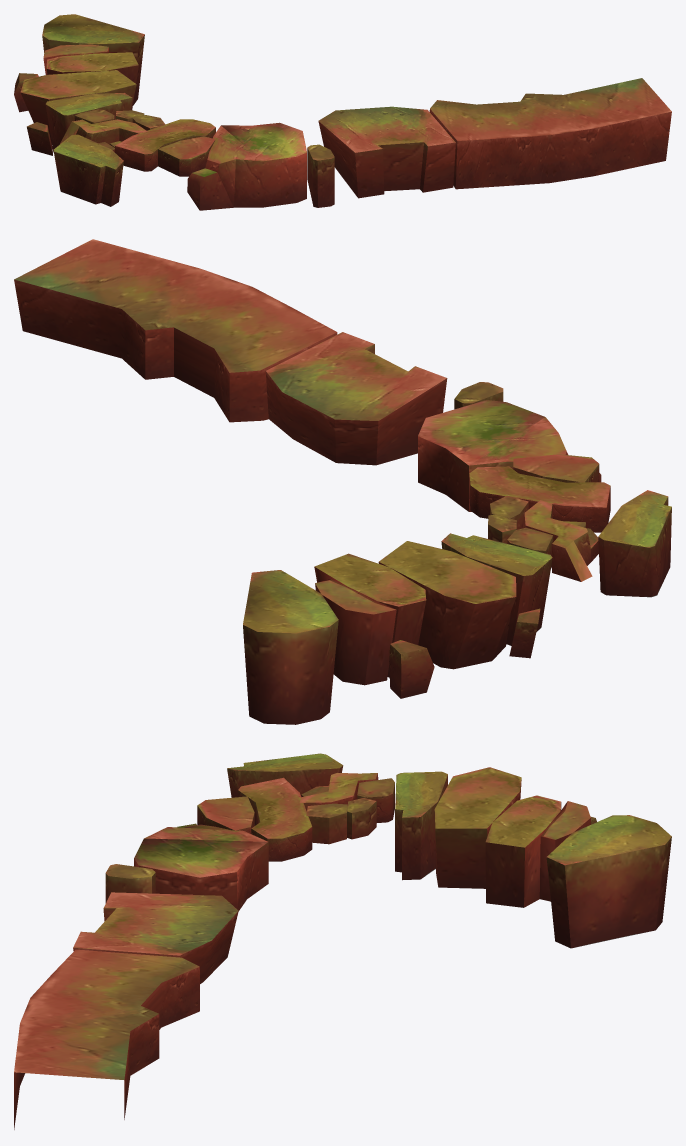
File: shui_lu.FBX
3 views of the same model, one above another, from view 1: azimuth 30°, elevation 25°; view 2: azimuth 150°, elevation 25°; view 3: azimuth 270°, elevation 25° (orthographic). The views are drawn at different scales.
Visible parts, largest first — view 1: Object01, Object12, Object10, Object02, Object03, Object07, Object04, Object06, lianhuatai1, Object08, Object11, Object09 (+1 smaller); view 2: Object01, Object12, Object04, Object07, Object06, Object10, Object02, Object03, lianhuatai1, Object08, Object05, Object09 (+1 smaller); view 3: Object01, Object04, Object12, Object10, Object06, Object07, Object02, lianhuatai1, Object08, Object03, Object11.
Boxes of the visible parts, x1=… form: Object01: x1=429, y1=78, x2=671, y2=189; Object12: x1=318, y1=106, x2=455, y2=198; Object10: x1=187, y1=122, x2=306, y2=210; Object02: x1=115, y1=119, x2=215, y2=176; Object03: x1=53, y1=134, x2=123, y2=206; Object07: x1=20, y1=70, x2=136, y2=143; Object04: x1=42, y1=14, x2=144, y2=105; Object06: x1=43, y1=44, x2=138, y2=110; lianhuatai1: x1=60, y1=109, x2=165, y2=152; Object08: x1=45, y1=93, x2=132, y2=152; Object11: x1=307, y1=144, x2=334, y2=207; Object09: x1=27, y1=122, x2=52, y2=155; Object01: x1=14, y1=239, x2=337, y2=422; Object12: x1=265, y1=332, x2=447, y2=465; Object04: x1=243, y1=570, x2=338, y2=724; Object07: x1=378, y1=541, x2=516, y2=669; Object06: x1=314, y1=553, x2=426, y2=685; Object10: x1=418, y1=400, x2=601, y2=511; Object02: x1=469, y1=454, x2=610, y2=532; Object03: x1=598, y1=490, x2=671, y2=597; lianhuatai1: x1=488, y1=495, x2=598, y2=581; Object08: x1=441, y1=533, x2=552, y2=645; Object05: x1=389, y1=640, x2=434, y2=698; Object09: x1=509, y1=608, x2=540, y2=658; Object01: x1=14, y1=949, x2=199, y2=1129; Object04: x1=546, y1=815, x2=671, y2=948; Object12: x1=73, y1=892, x2=238, y2=983; Object10: x1=134, y1=823, x2=268, y2=910; Object06: x1=485, y1=795, x2=590, y2=907; Object07: x1=434, y1=767, x2=521, y2=888; Object02: x1=197, y1=777, x2=312, y2=861; lianhuatai1: x1=299, y1=773, x2=394, y2=844; Object08: x1=395, y1=771, x2=447, y2=880; Object03: x1=227, y1=753, x2=343, y2=825; Object11: x1=105, y1=864, x2=155, y2=903.
Bounding box in the file's own units: 2424 × 2040 × 298.
